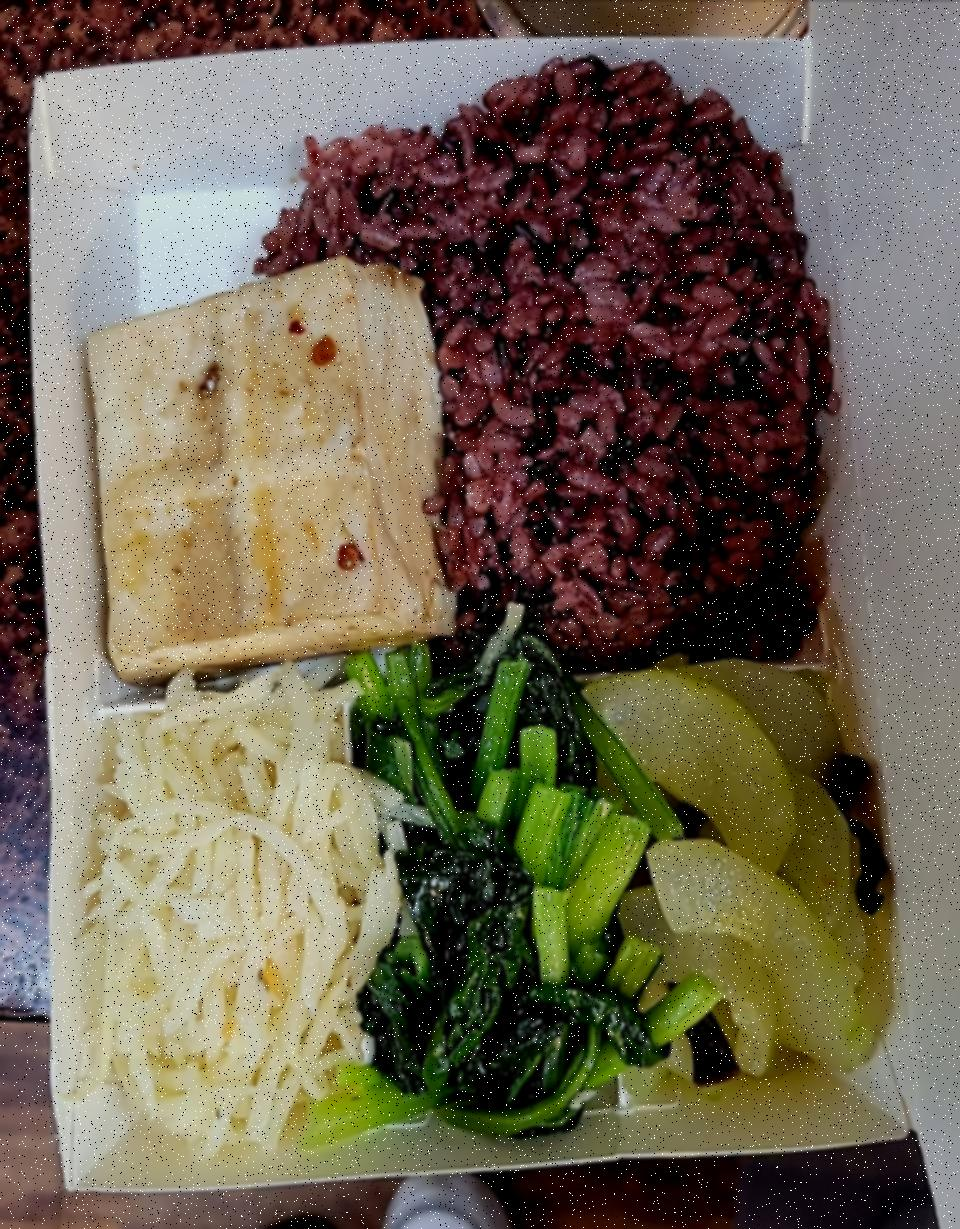box: (8, 13, 943, 1203)
purple rice: (266, 63, 839, 663)
side dish: (67, 238, 461, 679), (586, 640, 900, 1098), (354, 648, 620, 1143), (96, 696, 388, 1144)
